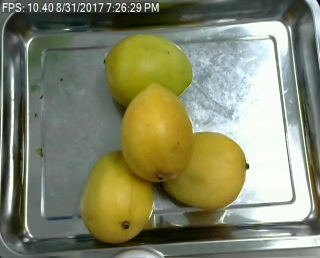Mango: (76, 149, 155, 243), (121, 85, 196, 181), (102, 30, 194, 108), (162, 132, 247, 212)
